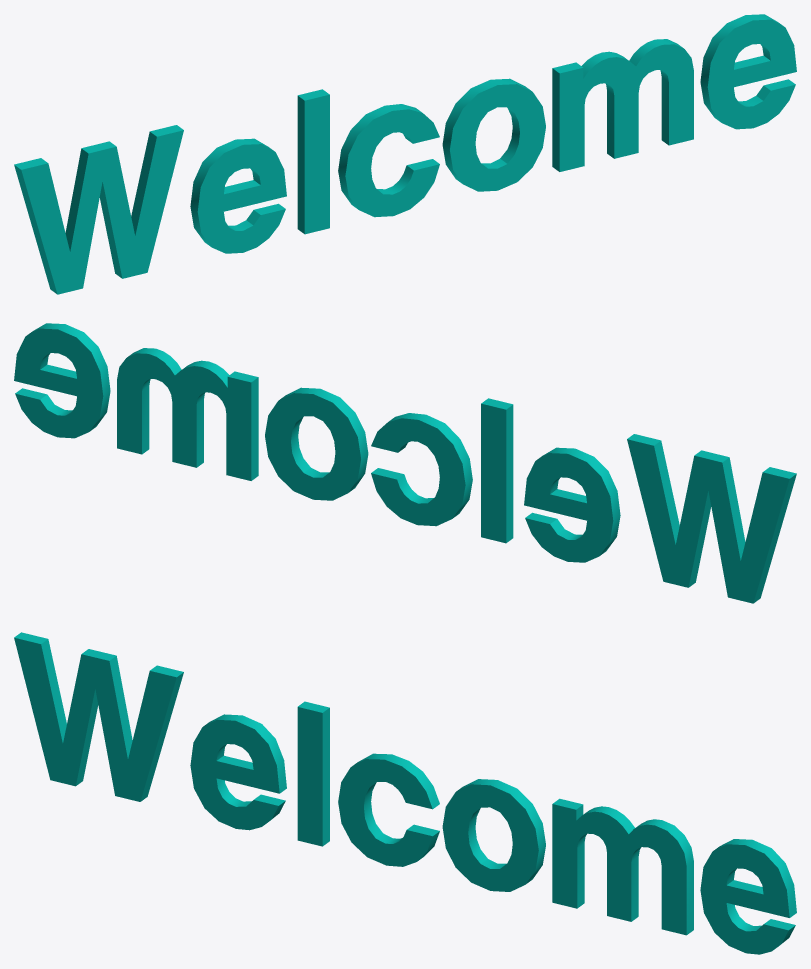
Rendered from welcome.fbx.
3 renders of one model, top to bottom at view 1: azimuth 30°, elevation 25°; view 2: azimuth 150°, elevation 25°; view 3: azimuth 330°, elevation 25°, orthographic.
Visible parts, largest first — view 1: Text; view 2: Text; view 3: Text.
Boxes of the visible parts, <box> form: Text: <box>14,14,796,294</box>; Text: <box>14,323,796,603</box>; Text: <box>14,632,796,954</box>.
Size of the model in its own units: 6.15 by 1.04 by 0.1.
